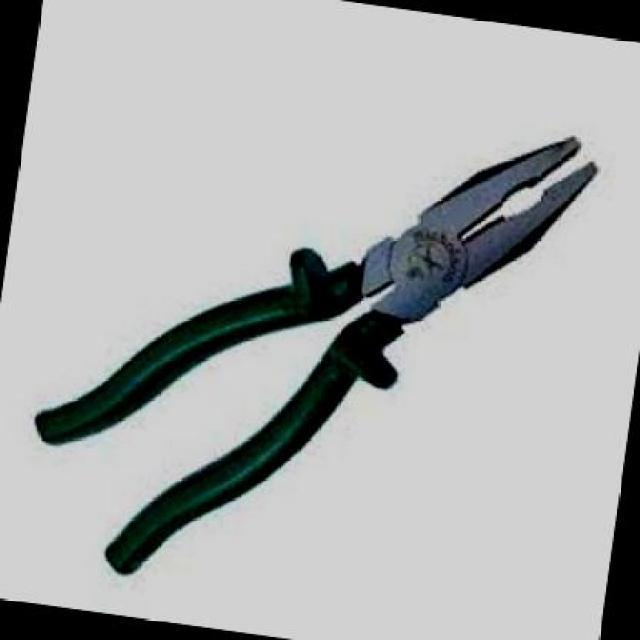pliers: (0, 51, 611, 638)
